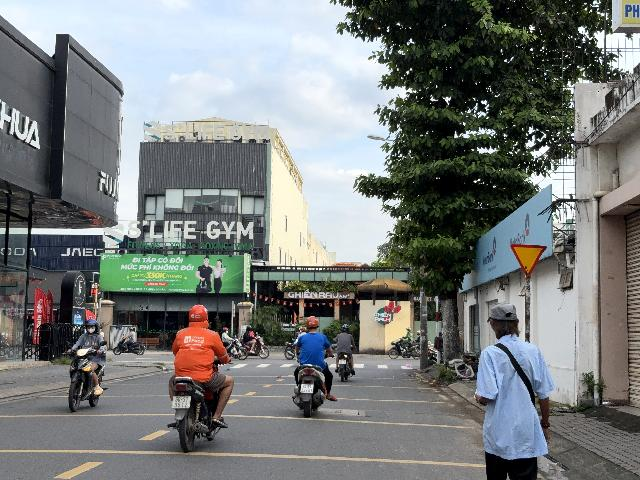giao-nhau-voi-duong-uu-tien: (510, 244, 547, 278)
